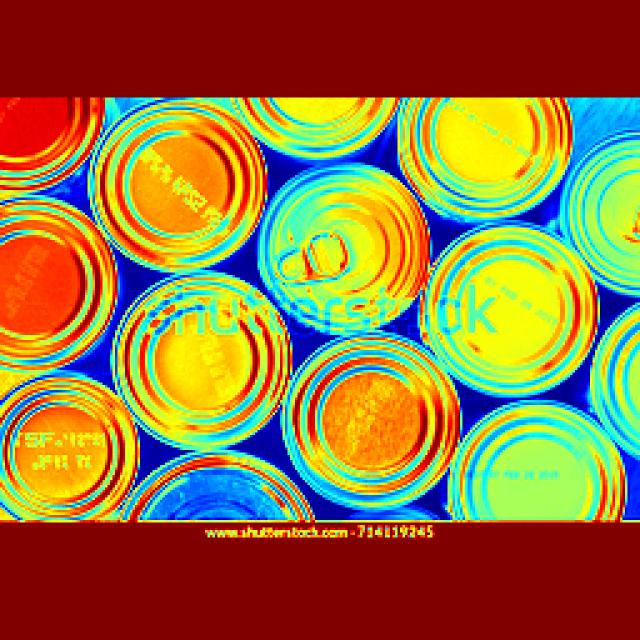Aluminium Food Cans: (420, 211, 601, 412), (115, 274, 291, 448), (261, 170, 432, 330), (94, 100, 258, 260), (394, 100, 571, 205)
